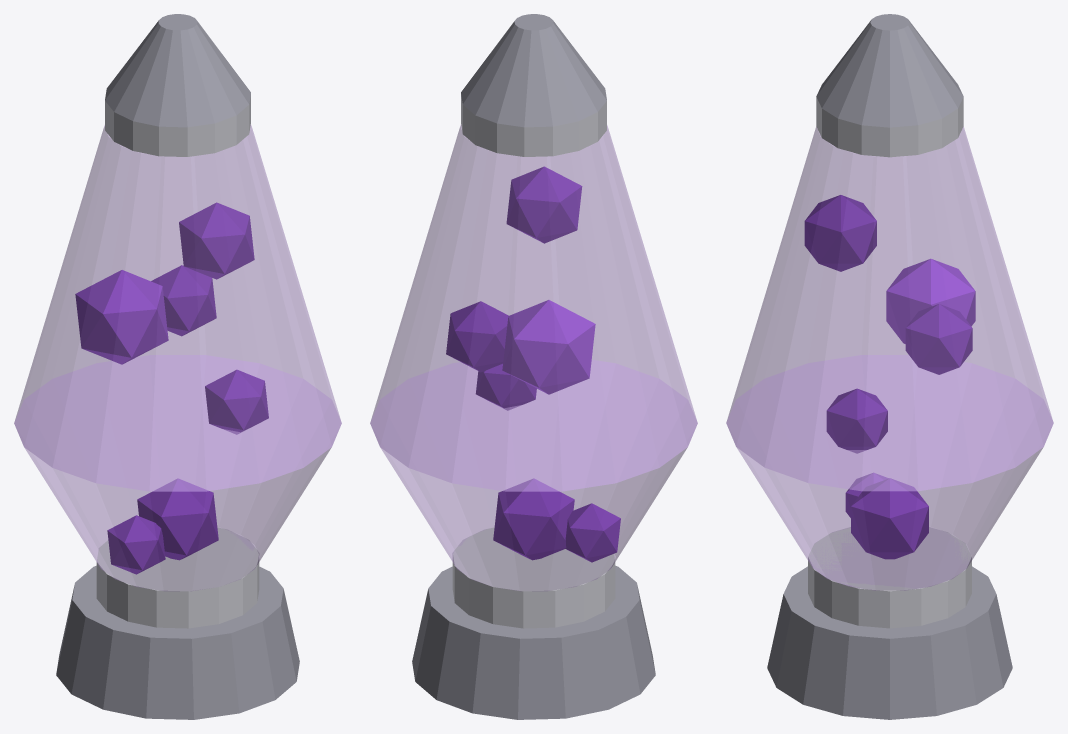
The model's file is deco_lavalamp_01.glb.
3 renders of one model, left to right at view 1: azimuth 30°, elevation 25°; view 2: azimuth 150°, elevation 25°; view 3: azimuth 270°, elevation 25°, orthographic.
Parts seen in each view (by area): view 1: deco_lavalamp_01_shell, deco_lavalamp_01_blob2, deco_lavalamp_01_blob0, deco_lavalamp_01_blob5, deco_lavalamp_01_blob1, deco_lavalamp_01_blob3, deco_lavalamp_01_blob4; view 2: deco_lavalamp_01_shell, deco_lavalamp_01_blob2, deco_lavalamp_01_blob0, deco_lavalamp_01_blob5, deco_lavalamp_01_blob3, deco_lavalamp_01_blob4, deco_lavalamp_01_blob1; view 3: deco_lavalamp_01_shell, deco_lavalamp_01_blob0, deco_lavalamp_01_blob5, deco_lavalamp_01_blob2, deco_lavalamp_01_blob3, deco_lavalamp_01_blob1, deco_lavalamp_01_blob4.
Boxes of the visible parts, left/top/right/bottom form: deco_lavalamp_01_shell: left=14, top=14, right=341, bottom=719; deco_lavalamp_01_blob2: left=75, top=270, right=168, bottom=364; deco_lavalamp_01_blob0: left=137, top=479, right=218, bottom=560; deco_lavalamp_01_blob5: left=179, top=202, right=254, bottom=279; deco_lavalamp_01_blob1: left=205, top=369, right=268, bottom=434; deco_lavalamp_01_blob3: left=151, top=265, right=216, bottom=336; deco_lavalamp_01_blob4: left=107, top=515, right=165, bottom=574; deco_lavalamp_01_shell: left=370, top=14, right=697, bottom=719; deco_lavalamp_01_blob2: left=502, top=300, right=595, bottom=394; deco_lavalamp_01_blob0: left=493, top=479, right=574, bottom=560; deco_lavalamp_01_blob5: left=506, top=166, right=582, bottom=243; deco_lavalamp_01_blob3: left=446, top=301, right=508, bottom=372; deco_lavalamp_01_blob4: left=565, top=503, right=620, bottom=562; deco_lavalamp_01_blob1: left=475, top=363, right=536, bottom=410; deco_lavalamp_01_shell: left=726, top=14, right=1053, bottom=719; deco_lavalamp_01_blob0: left=851, top=478, right=928, bottom=559; deco_lavalamp_01_blob5: left=804, top=195, right=876, bottom=271; deco_lavalamp_01_blob2: left=886, top=258, right=975, bottom=343; deco_lavalamp_01_blob3: left=905, top=304, right=972, bottom=374; deco_lavalamp_01_blob1: left=826, top=388, right=887, bottom=453; deco_lavalamp_01_blob4: left=845, top=473, right=887, bottom=517.
Size of the model in its own units: 0.197 by 0.435 by 0.2.
